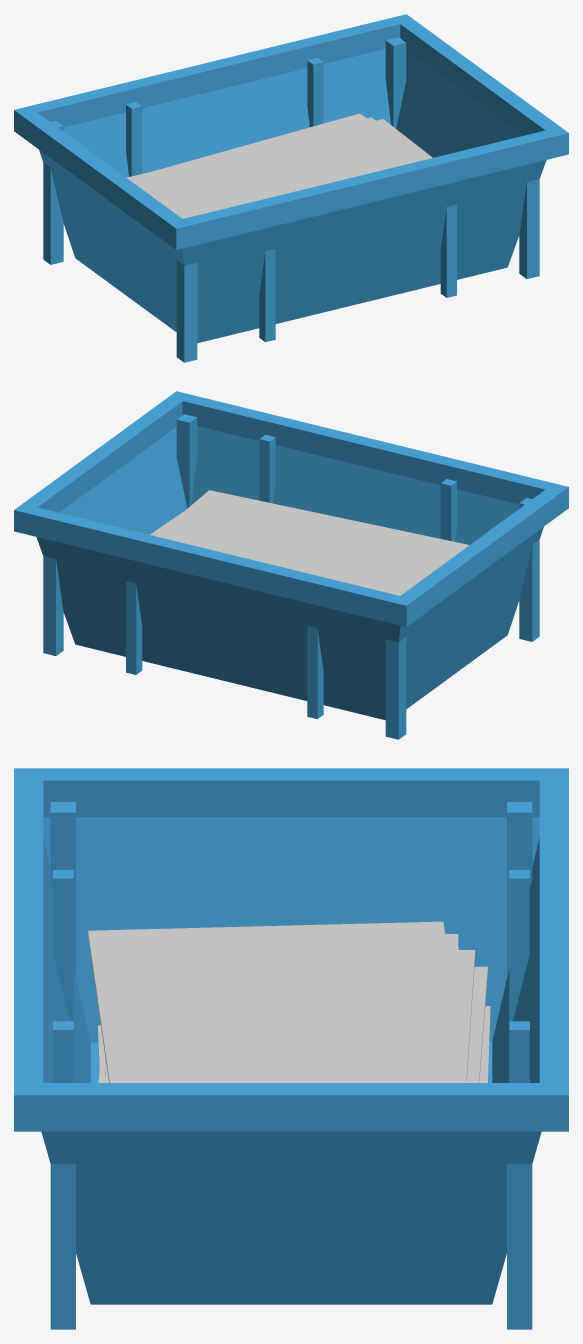
File: Submission box.glb
The picture shows the model from 3 angles, top to bottom: view 1: azimuth 30°, elevation 25°; view 2: azimuth 150°, elevation 25°; view 3: azimuth 270°, elevation 25°; orthographic projection. The views are drawn at different scales.
Visible parts, largest first — view 1: Basket_Body, Paper_Sheet_21, Basket_Rim_Front, Basket_Rim_Back, Basket_Rim_Left, Basket_Rim_Right, Basket_CornerPost_0, Basket_CornerPost_1, Basket_CornerPost_3, Basket_CornerPost_2, Basket_MidPost_Front_0, Basket_MidPost_Front_1 (+2 smaller); view 2: Basket_Body, Paper_Sheet_21, Basket_Rim_Back, Basket_Rim_Front, Basket_Rim_Left, Basket_Rim_Right, Basket_CornerPost_3, Basket_CornerPost_2, Basket_CornerPost_0, Basket_CornerPost_1, Basket_MidPost_Back_0, Basket_MidPost_Back_1 (+2 smaller); view 3: Basket_Body, Paper_Sheet_21, Basket_Rim_Right, Basket_Rim_Left, Basket_Rim_Back, Basket_Rim_Front, Basket_CornerPost_1, Basket_CornerPost_2, Basket_MidPost_Back_0, Basket_MidPost_Front_0, Basket_CornerPost_0, Basket_CornerPost_3 (+5 smaller).
Part boxes in pixels (x1,y1,x2,y2): Basket_Body: [39, 49, 546, 343]; Paper_Sheet_21: [127, 113, 429, 218]; Basket_Rim_Front: [168, 127, 568, 249]; Basket_Rim_Back: [14, 14, 414, 137]; Basket_Rim_Left: [22, 112, 182, 243]; Basket_Rim_Right: [400, 20, 559, 135]; Basket_CornerPost_0: [176, 260, 197, 362]; Basket_CornerPost_1: [519, 179, 539, 278]; Basket_CornerPost_3: [43, 121, 63, 264]; Basket_CornerPost_2: [385, 37, 406, 128]; Basket_MidPost_Front_0: [259, 248, 275, 342]; Basket_MidPost_Front_1: [440, 204, 456, 297]; Basket_Body: [36, 426, 543, 720]; Paper_Sheet_21: [155, 490, 469, 595]; Basket_Rim_Back: [14, 504, 414, 626]; Basket_Rim_Front: [168, 391, 568, 514]; Basket_Rim_Left: [400, 489, 560, 620]; Basket_Rim_Right: [23, 397, 182, 512]; Basket_CornerPost_3: [385, 637, 406, 739]; Basket_CornerPost_2: [43, 556, 63, 655]; Basket_CornerPost_0: [519, 498, 539, 641]; Basket_CornerPost_1: [176, 414, 197, 508]; Basket_MidPost_Back_0: [307, 625, 323, 719]; Basket_MidPost_Back_1: [126, 581, 142, 674]; Basket_Body: [41, 817, 541, 1304]; Paper_Sheet_21: [88, 921, 466, 1082]; Basket_Rim_Right: [43, 1083, 539, 1131]; Basket_Rim_Left: [43, 768, 539, 816]; Basket_Rim_Back: [539, 768, 568, 1131]; Basket_Rim_Front: [14, 768, 43, 1131]; Basket_CornerPost_1: [50, 1163, 75, 1329]; Basket_CornerPost_2: [507, 1163, 532, 1329]; Basket_MidPost_Back_0: [509, 870, 529, 1021]; Basket_MidPost_Front_0: [53, 870, 73, 1021]; Basket_CornerPost_0: [50, 802, 75, 977]; Basket_CornerPost_3: [507, 802, 532, 977].
Size of the model in its own units: 0.424 by 0.151 by 0.304.
